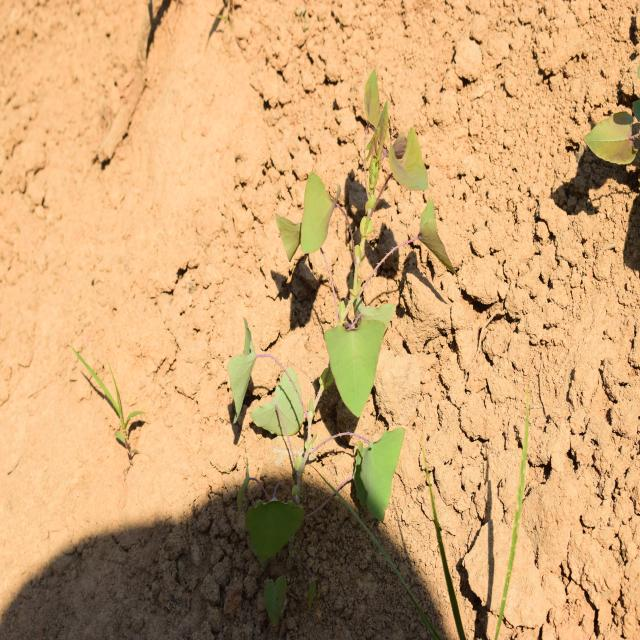Asiatic_Smartweed: (224, 307, 422, 499), (274, 102, 466, 298)
